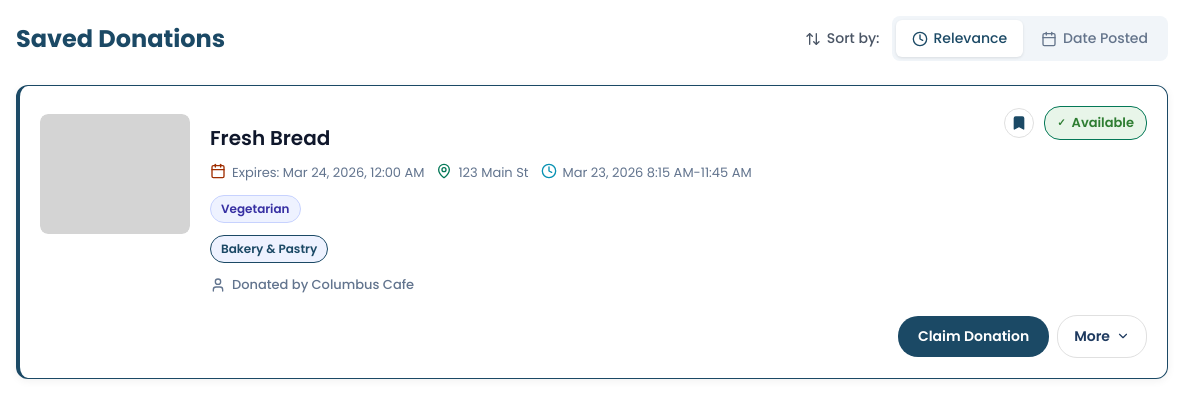
ReceiverSavedDonations › renders saved donation card and unsaves on bookmark click
Expected: the heading "Fresh Bread" is shown, [210, 125, 330, 151]
Click the button named "Bookmark" at (1019, 123), box [1004, 108, 1034, 138]
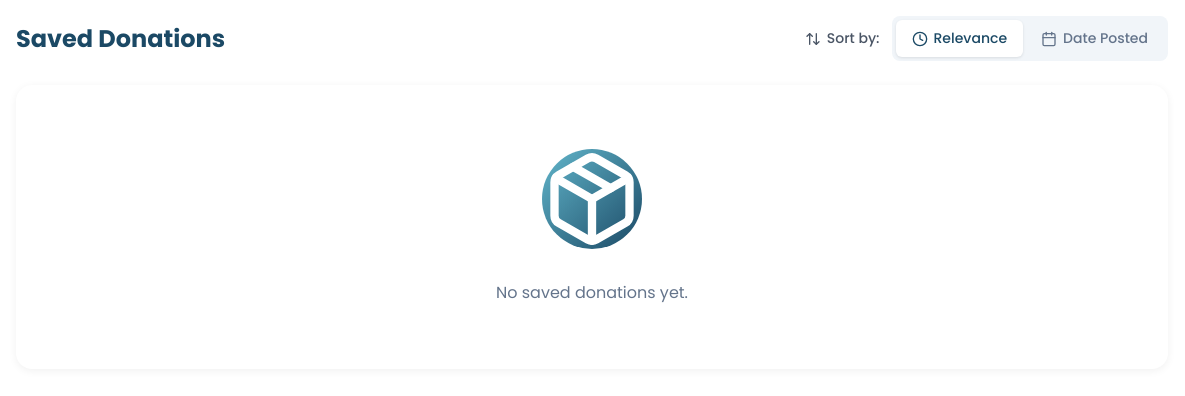
Now the heading "Fresh Bread" is gone
